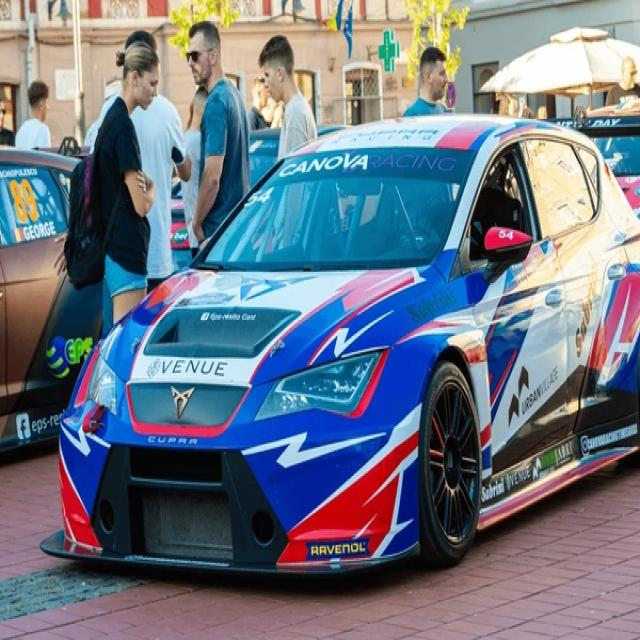cupra: (170, 383, 194, 424)
